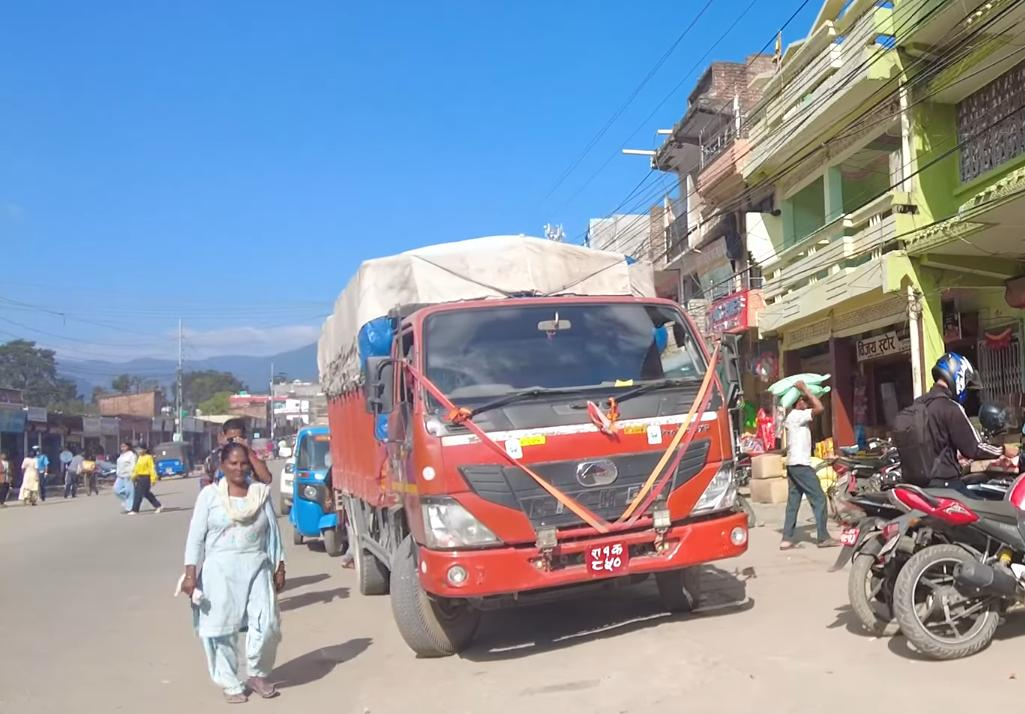auto_rickshaw: (284, 422, 362, 562)
bike: (847, 454, 1025, 647)
mini_truck: (331, 243, 771, 666)
